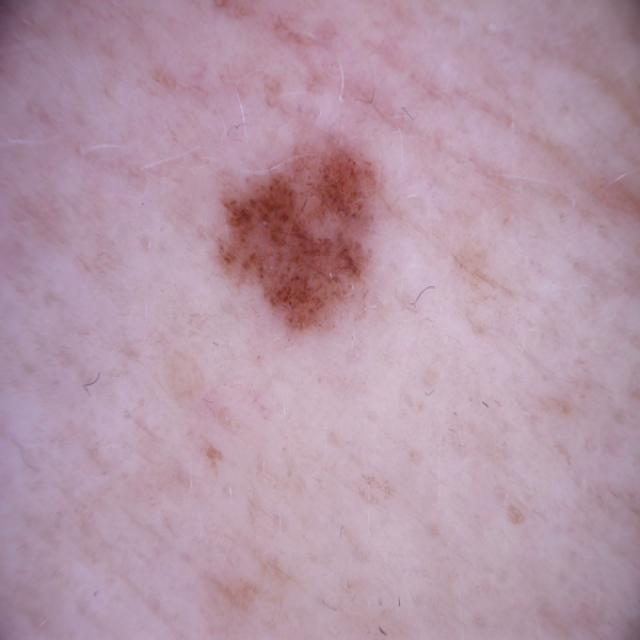NV: (212, 135, 383, 340)
